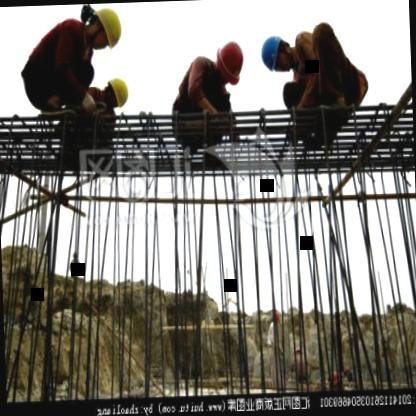helmet: (211, 41, 249, 86), (86, 8, 126, 50), (258, 34, 295, 74), (102, 78, 129, 108)
